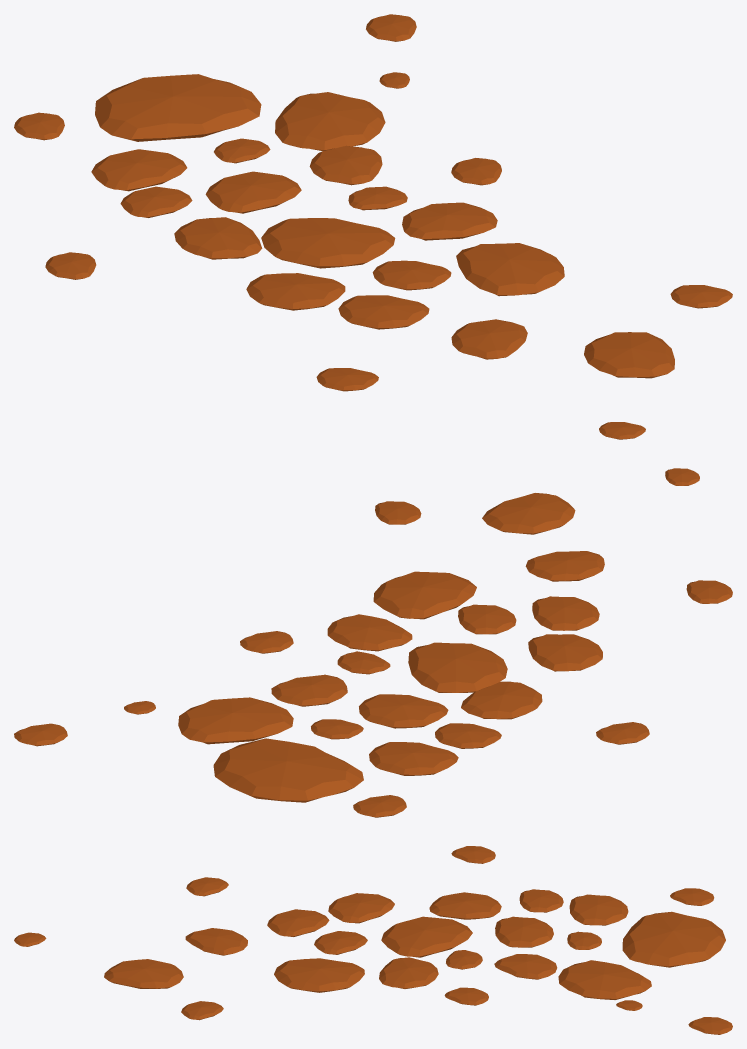
The model's file is GroupLiitleRock.fbx.
3 views of the same model, one above another, from view 1: azimuth 30°, elevation 25°; view 2: azimuth 150°, elevation 25°; view 3: azimuth 270°, elevation 25° (orthographic). The views are drawn at different scales.
Visible parts, largest first — view 1: LittleRock_2.006, LittleRock_2.009, LittleRock_2.010, LittleRock_2.015, LittleRock_2.026, LittleRock_2.002, LittleRock_2.013, LittleRock_2.004, LittleRock_2.012, LittleRock_2.008, LittleRock_2.016, LittleRock_2.027 (+11 smaller); view 2: LittleRock_2.006, LittleRock_2.010, LittleRock_2.009, LittleRock_2.015, LittleRock_2.026, LittleRock_2.002, LittleRock_2.004, LittleRock_2.008, LittleRock_2.012, LittleRock_2.013, LittleRock_2.027, LittleRock_2.016 (+11 smaller); view 3: LittleRock_2.006, LittleRock_2.010, LittleRock_2.009, LittleRock_2.015, LittleRock_2.026, LittleRock_2.008, LittleRock_2.004, LittleRock_2.002, LittleRock_2.013, LittleRock_2.012, LittleRock_2.027, LittleRock_2.016 (+12 smaller).
Boxes of the visible parts, <box> form: LittleRock_2.006: <box>95,74,261,141</box>; LittleRock_2.009: <box>261,218,395,268</box>; LittleRock_2.010: <box>275,92,385,150</box>; LittleRock_2.015: <box>456,243,564,296</box>; LittleRock_2.026: <box>584,332,674,378</box>; LittleRock_2.002: <box>205,171,301,213</box>; LittleRock_2.013: <box>246,273,345,310</box>; LittleRock_2.004: <box>91,149,187,191</box>; LittleRock_2.012: <box>402,202,497,240</box>; LittleRock_2.008: <box>174,217,262,259</box>; LittleRock_2.016: <box>338,295,429,329</box>; LittleRock_2.027: <box>451,319,527,359</box>; LittleRock_2.006: <box>213,738,363,802</box>; LittleRock_2.010: <box>178,697,293,744</box>; LittleRock_2.009: <box>408,642,507,692</box>; LittleRock_2.015: <box>373,571,476,619</box>; LittleRock_2.026: <box>482,493,575,534</box>; LittleRock_2.002: <box>359,694,448,728</box>; LittleRock_2.004: <box>369,742,458,775</box>; LittleRock_2.008: <box>461,681,542,719</box>; LittleRock_2.012: <box>327,614,412,651</box>; LittleRock_2.013: <box>528,634,602,671</box>; LittleRock_2.027: <box>525,551,604,581</box>; LittleRock_2.016: <box>532,596,599,630</box>; LittleRock_2.006: <box>622,911,725,967</box>; LittleRock_2.010: <box>558,960,651,999</box>; LittleRock_2.009: <box>381,916,472,957</box>; LittleRock_2.015: <box>274,958,364,992</box>; LittleRock_2.026: <box>104,959,183,988</box>; LittleRock_2.008: <box>429,892,501,919</box>; LittleRock_2.004: <box>569,894,628,925</box>; LittleRock_2.002: <box>495,916,553,947</box>; LittleRock_2.013: <box>328,893,394,923</box>; LittleRock_2.012: <box>379,957,438,988</box>; LittleRock_2.027: <box>185,928,247,955</box>; LittleRock_2.016: <box>267,909,329,936</box>.
Size of the model in its own units: 449 by 20.78 by 726.
